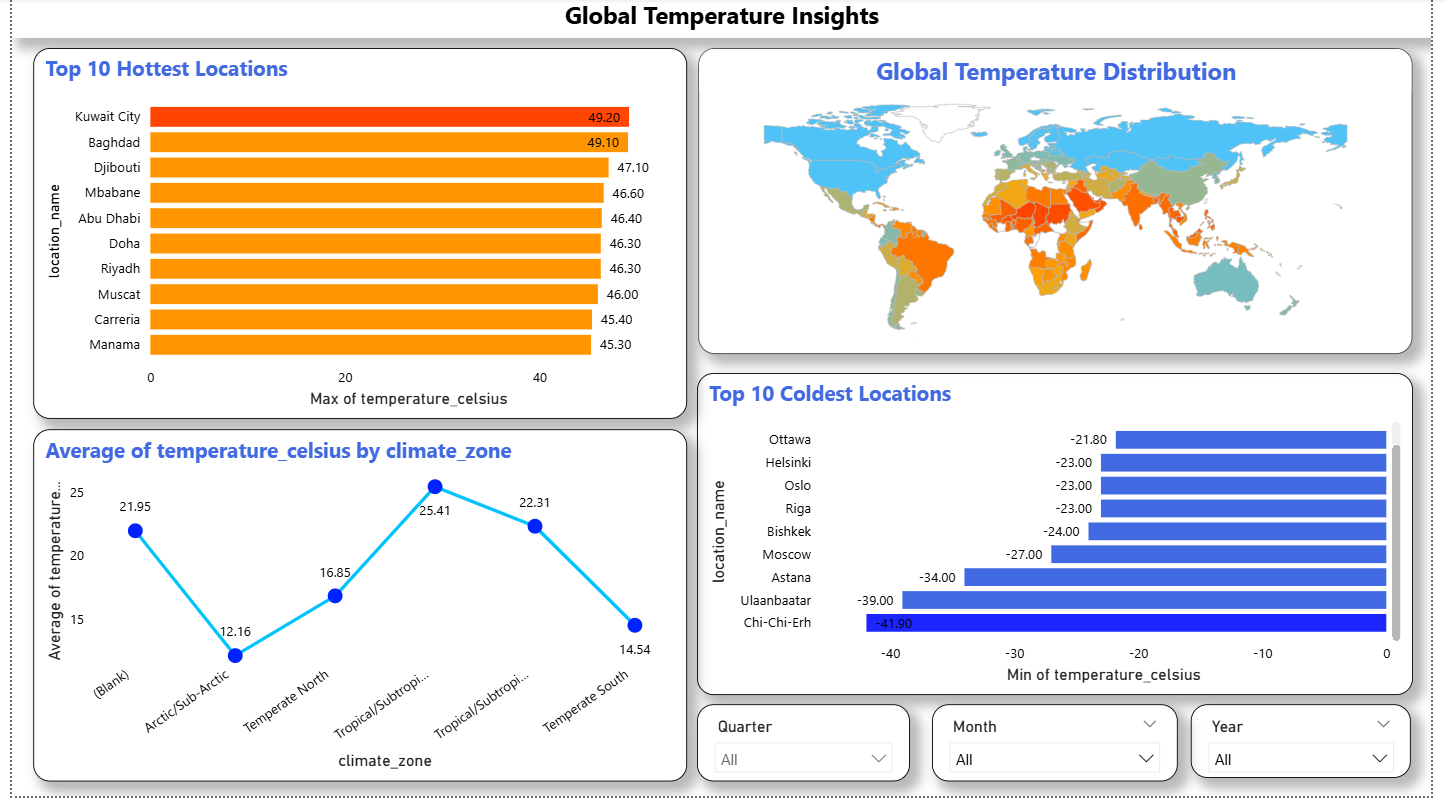

What the dashboard file says about the page in this screenshot:
{"tool":"powerbi","page":{"name":"Temperature Insights","canvas":[1280,720],"ordinal":2},"visuals":[{"type":"textbox","title":"Global Temperature Insights","box":[0,0,1280.2,35.8],"z":0},{"type":"clusteredBarChart","title":"Top 10 Coldest Locations","fields":{"Category":["in.location_name"],"Y":["Min(in.temperature_celsius)"]},"box":[617.3,338.7,645.3,290.7],"z":1000},{"type":"clusteredBarChart","title":"Top 10 Hottest Locations","fields":{"Category":["in.location_name"],"Y":["Max(in.temperature_celsius)"]},"box":[18.7,45.3,589.3,334.7],"z":2000},{"type":"slicer","fields":{"Values":["in.last_updated.Variation.Date Hierarchy.Year"]},"box":[1062.7,637.3,198.7,66.7],"z":3000},{"type":"slicer","fields":{"Values":["in.last_updated.Variation.Date Hierarchy.Month"]},"box":[829.3,637.3,221.3,69.3],"z":4000},{"type":"lineChart","fields":{"Category":["ZoneOrder.climate_zone"],"Y":["Avg(in.temperature_celsius)"]},"box":[18.7,389.3,589.3,317.3],"z":5000},{"type":"slicer","fields":{"Values":["in.last_updated.Variation.Date Hierarchy.Quarter"]},"box":[617.3,637.3,192,69.3],"z":6000},{"type":"shapeMap","title":"Global Temperature Distribution","fields":{"Category":["in.country"],"Value":["Avg(in.temperature_celsius)"]},"box":[618.7,45.3,644,276],"z":7000}]}

Visuals, with their boxes in screenshot pixels (x1, y1, x2, y2), scaled from the page's 1280x720 canvas onto the 1445x798 screenshot:
"Global Temperature Insights" textbox: bbox(0, 0, 1444, 40)
"Top 10 Coldest Locations" clusteredBarChart: bbox(697, 375, 1425, 698)
"Top 10 Hottest Locations" clusteredBarChart: bbox(21, 50, 686, 421)
slicer - in.last_updated.Variation.Date Hierarchy.Year: bbox(1200, 706, 1424, 780)
slicer - in.last_updated.Variation.Date Hierarchy.Month: bbox(936, 706, 1186, 783)
lineChart - ZoneOrder.climate_zone x Avg(in.temperature_celsius): bbox(21, 431, 686, 783)
slicer - in.last_updated.Variation.Date Hierarchy.Quarter: bbox(697, 706, 914, 783)
"Global Temperature Distribution" shapeMap: bbox(698, 50, 1425, 356)
